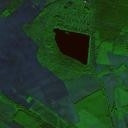alloviz: (52, 27, 91, 66)
